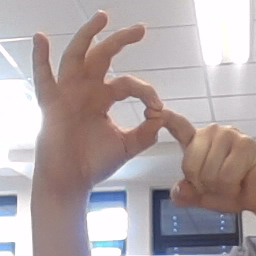Q: (23, 8, 241, 218)
